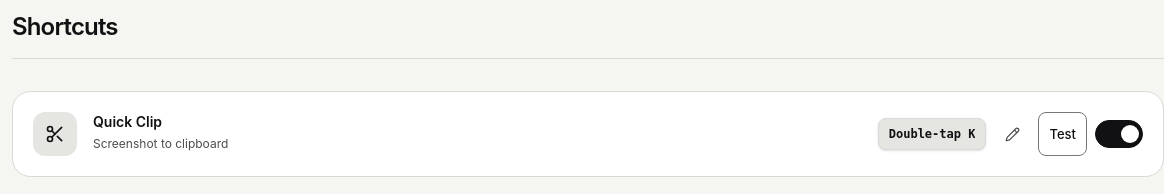
Test: native Quick Clip settings › persists native disable
Click the switch named "Enable Quick Clip": coordinates (1119, 134) x1=1095 y1=120 x2=1143 y2=148
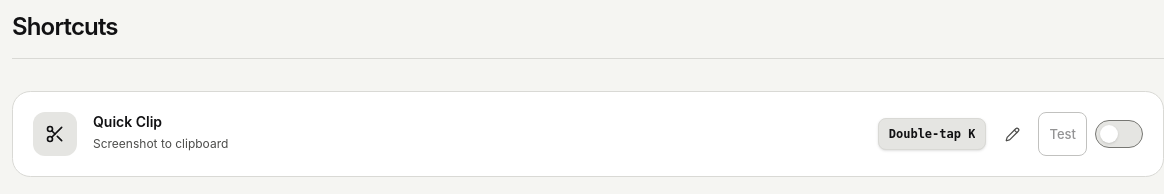
Result: the switch named "Enable Quick Clip" is not checked at x1=1095 y1=120 x2=1143 y2=148
